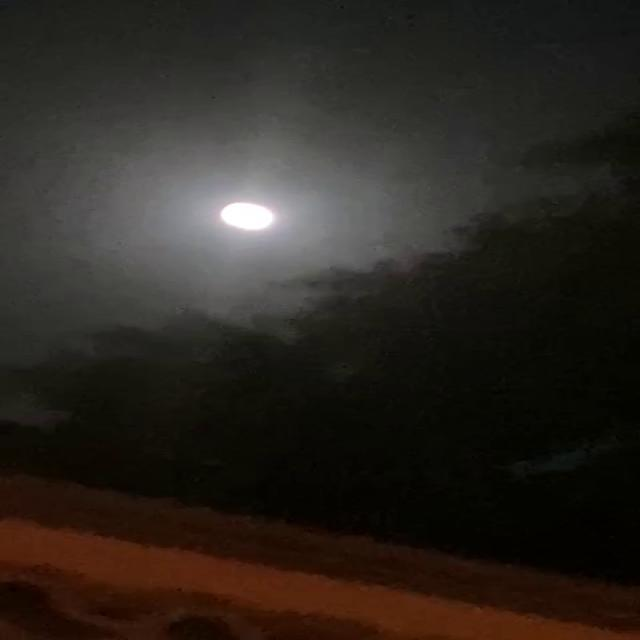moon: (308, 219, 391, 263)
